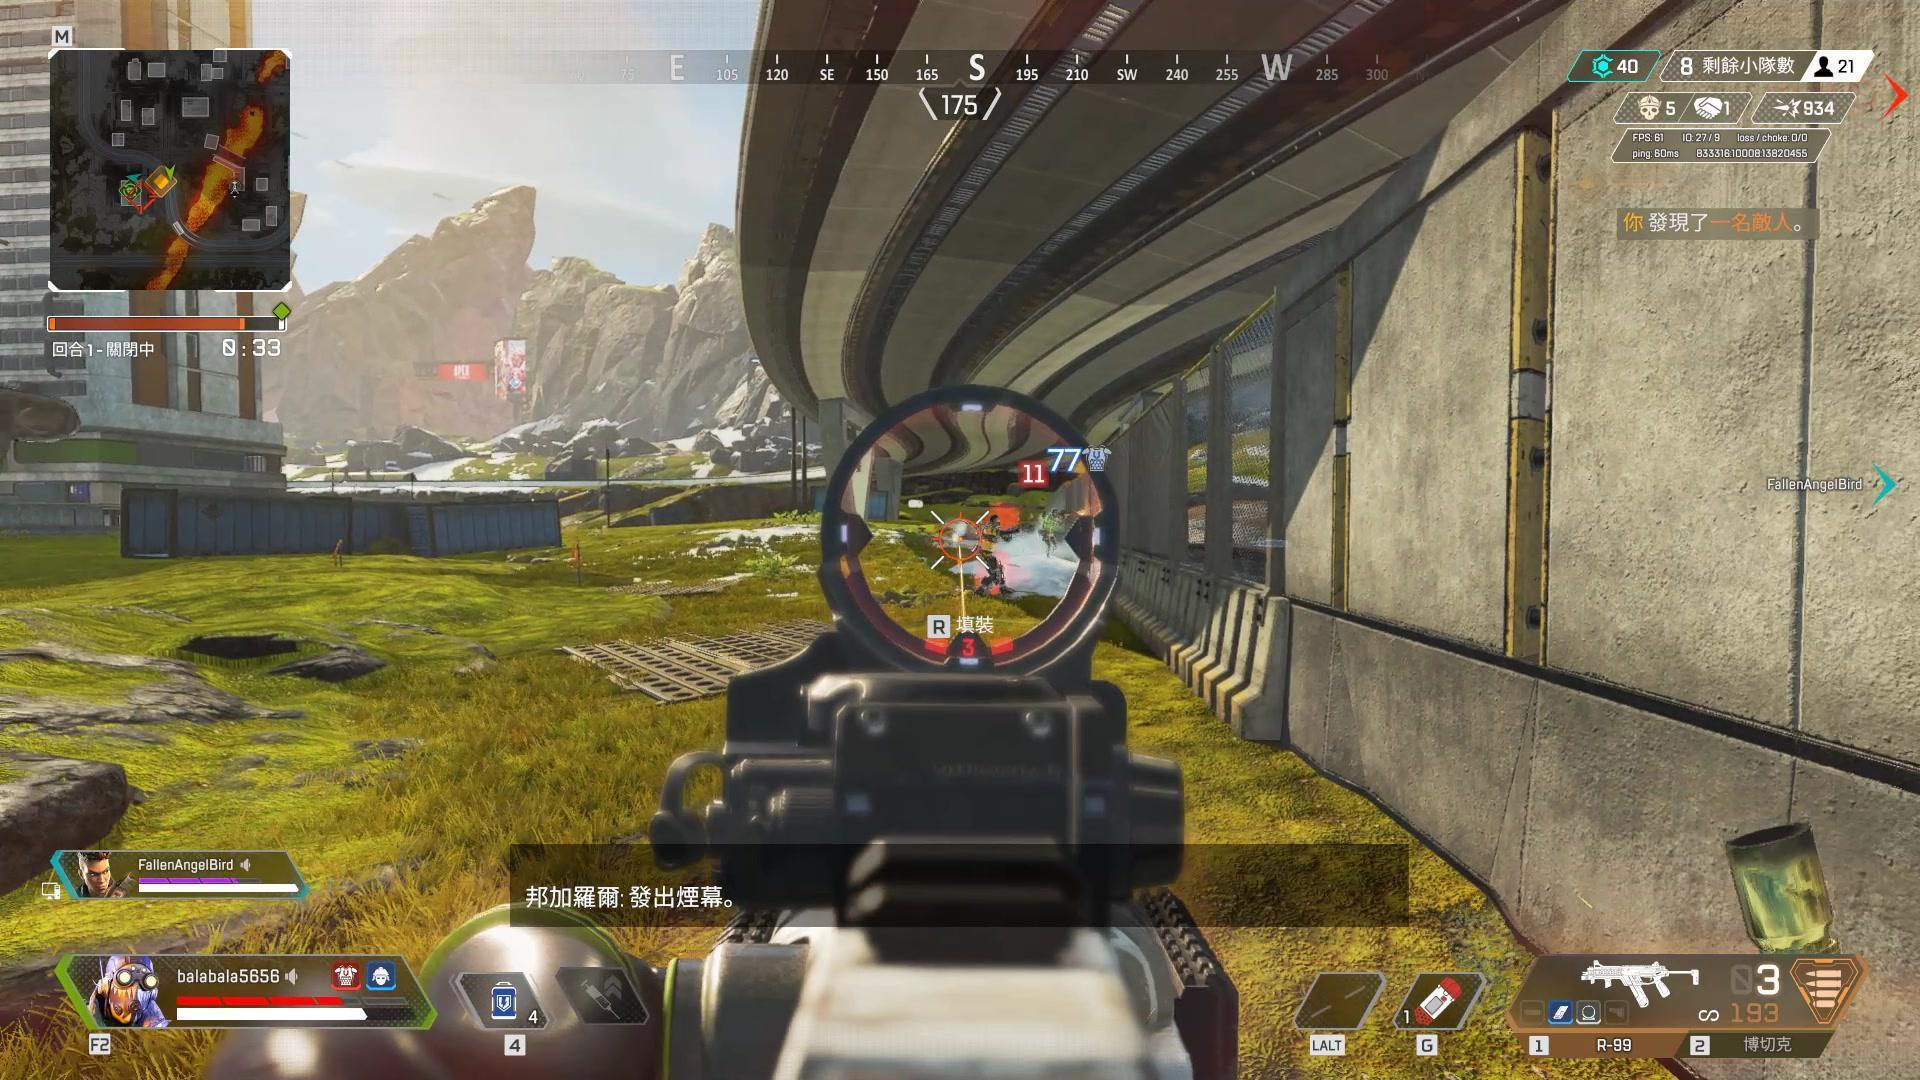avatar: (968, 511, 1017, 600)
